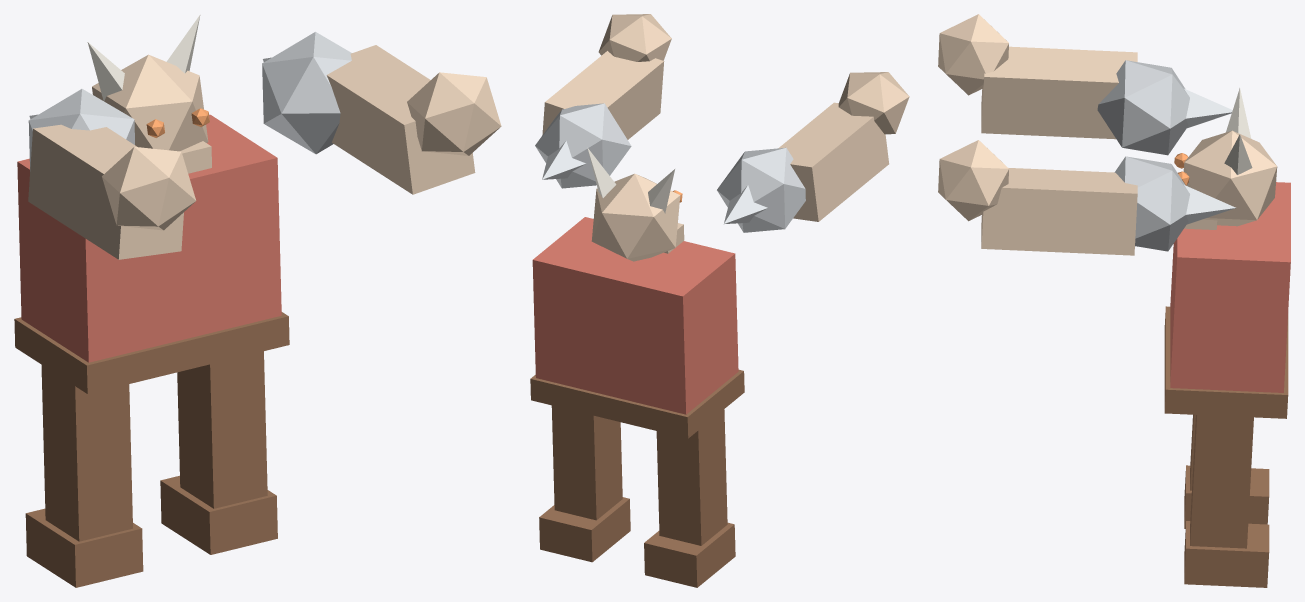
The model's file is npcpose_brute_attack_02.glb.
3 renders of one model, left to right at view 1: azimuth 30°, elevation 25°; view 2: azimuth 150°, elevation 25°; view 3: azimuth 270°, elevation 25°, orthographic. The views are drawn at different scales.
Visible parts, largest first — view 1: npcpose; view 2: npcpose; view 3: npcpose.
Part boxes in pixels (<box>): npcpose: <box>14,14,501,587</box>; npcpose: <box>530,14,909,587</box>; npcpose: <box>938,14,1290,587</box>.
Bounding box in the file's own units: 1.43 × 1.97 × 1.35.
